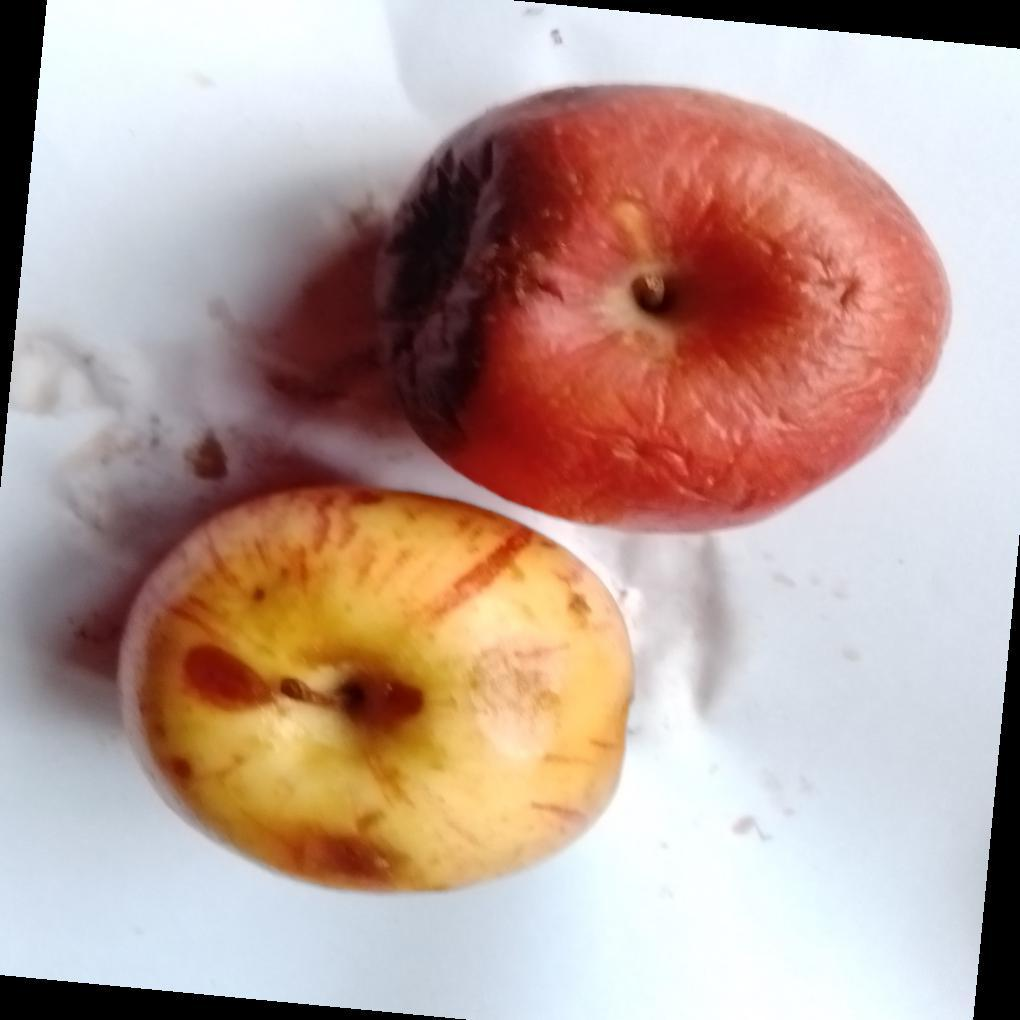FreshOrange: (378, 84, 906, 538), (117, 485, 635, 899)
